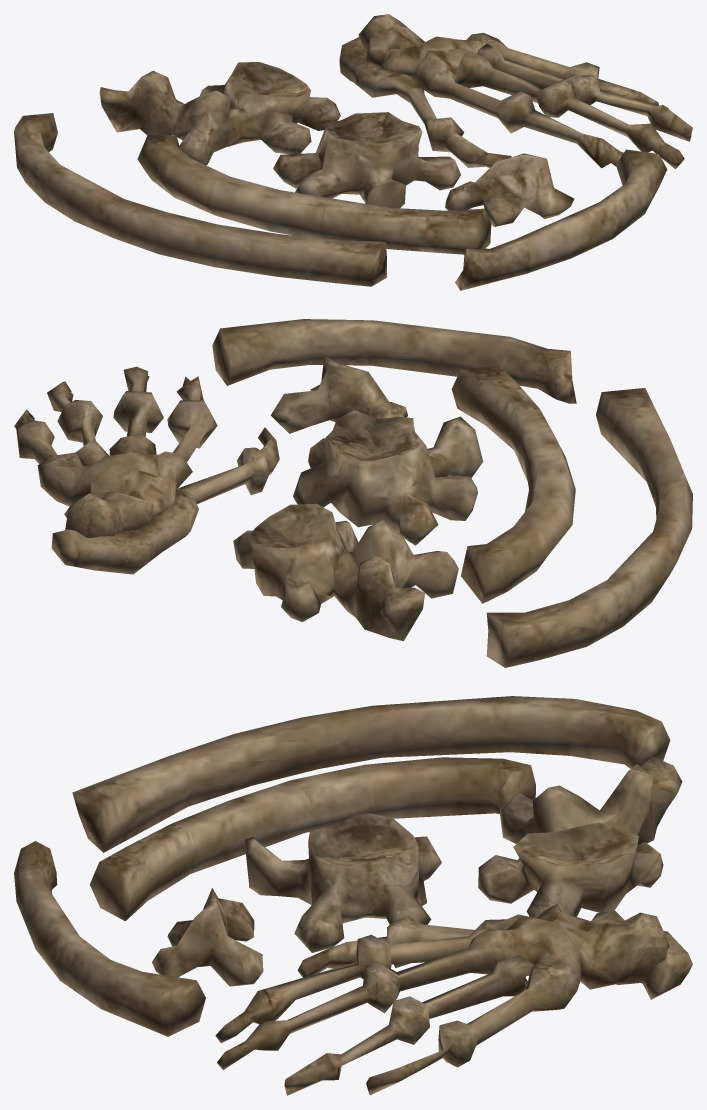
Rendered from h_bone_C.glb.
The picture shows the model from 3 angles, top to bottom: view 1: azimuth 30°, elevation 25°; view 2: azimuth 150°, elevation 25°; view 3: azimuth 270°, elevation 25°; orthographic projection. The views are drawn at different scales.
Parts seen in each view (by area): view 1: h_bone_C; view 2: h_bone_C; view 3: h_bone_C.
Part boxes in pixels (x1,y1,x2,y2): h_bone_C: (14, 14, 692, 290); h_bone_C: (14, 319, 692, 667); h_bone_C: (14, 696, 692, 1095).
Size of the model in its own units: 1.11 by 0.1226 by 0.9185.
Materials: 1 (1 with a texture image).
